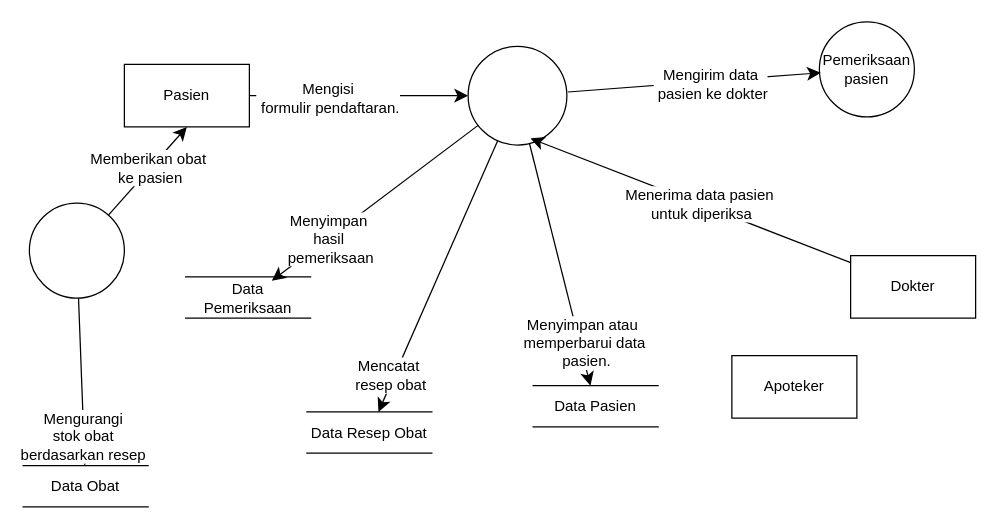
Image size: 999x529. Some labels were removed from this diagram. The centre of each missing label's shape, as x and y in pixels:
"Pelayanan Obat" belongs at pixel 76 250.
"Pendaftaran Pasien" belongs at pixel 517 95.
